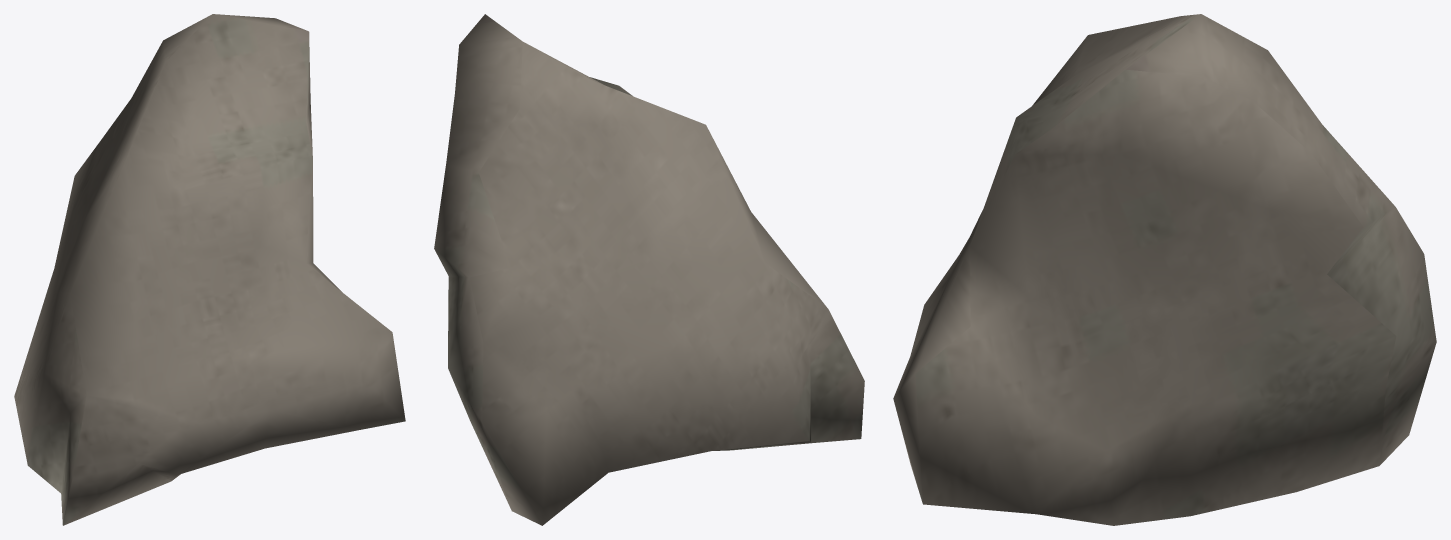
The model's file is moon_rock_05_lo.glb.
The picture shows the model from 3 angles, left to right: view 1: azimuth 30°, elevation 25°; view 2: azimuth 150°, elevation 25°; view 3: azimuth 270°, elevation 25°; orthographic projection. The views are drawn at different scales.
Parts seen in each view (by area): view 1: moon_rock_05_lo; view 2: moon_rock_05_lo; view 3: moon_rock_05_lo.
Part boxes in pixels (x1,y1,x2,y2): moon_rock_05_lo: [14, 14, 405, 525]; moon_rock_05_lo: [434, 14, 864, 525]; moon_rock_05_lo: [893, 14, 1436, 525].
Size of the model in its own units: 0.8638 by 1 by 1.
1 material, 1 textured.
